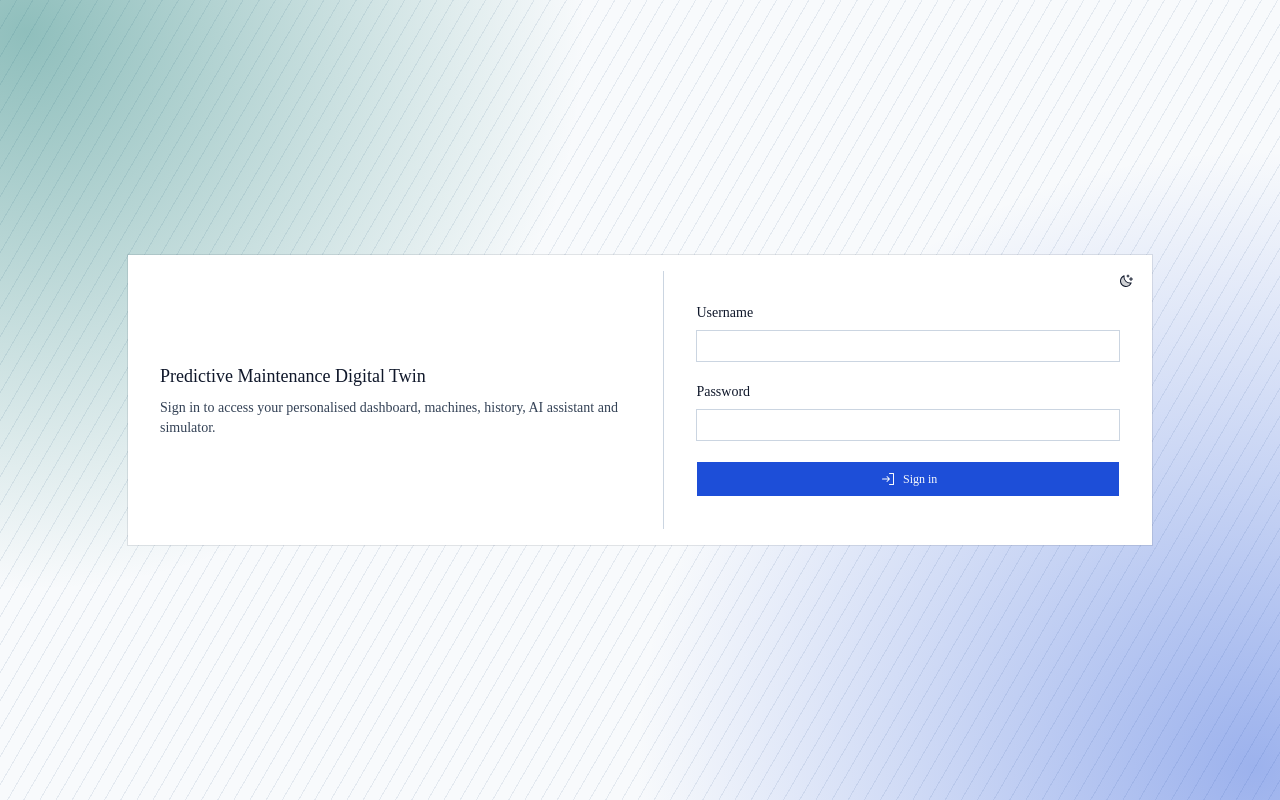
Test: auth forms › renders a readable sign-in error
In the field labelled "Username": (908, 346) [696,330,1120,362], type "wrong@test.com"
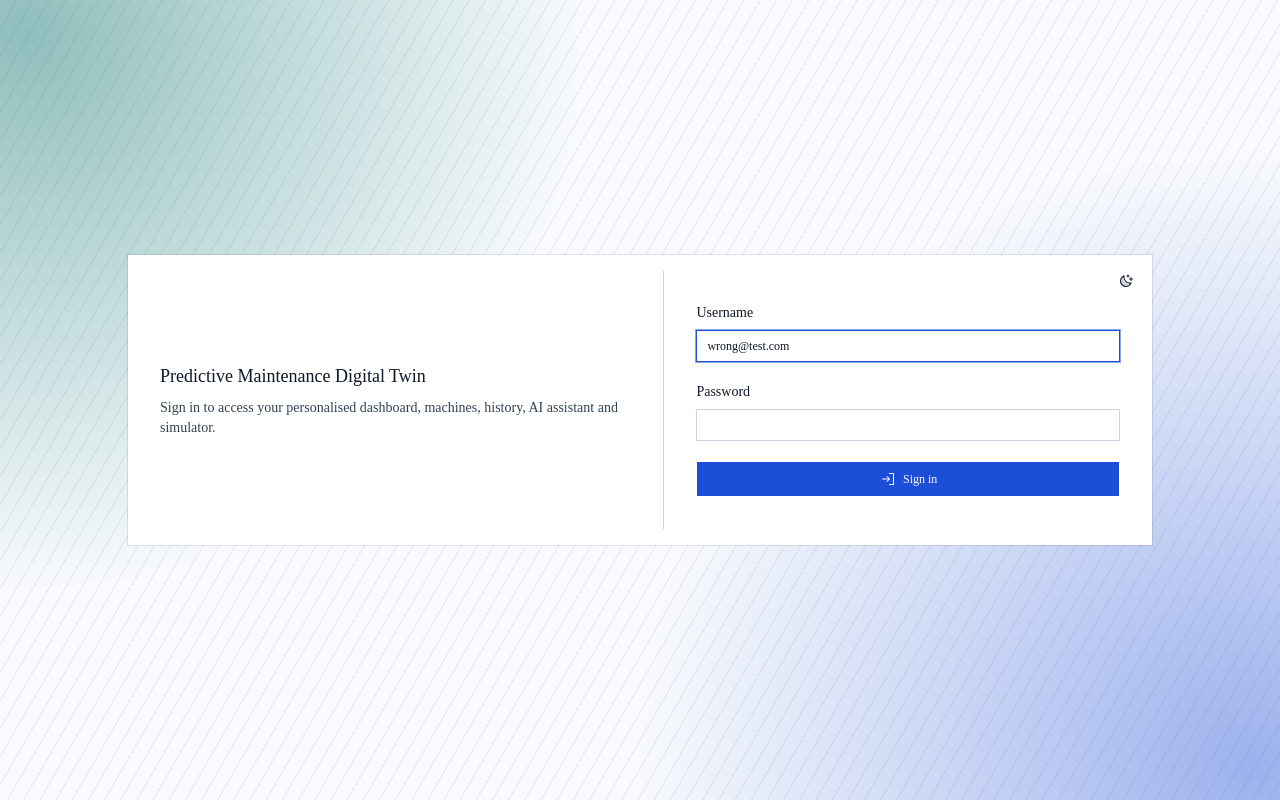
In the password field labelled "Password": (908, 425) [696,409,1120,441], type "bad-password"
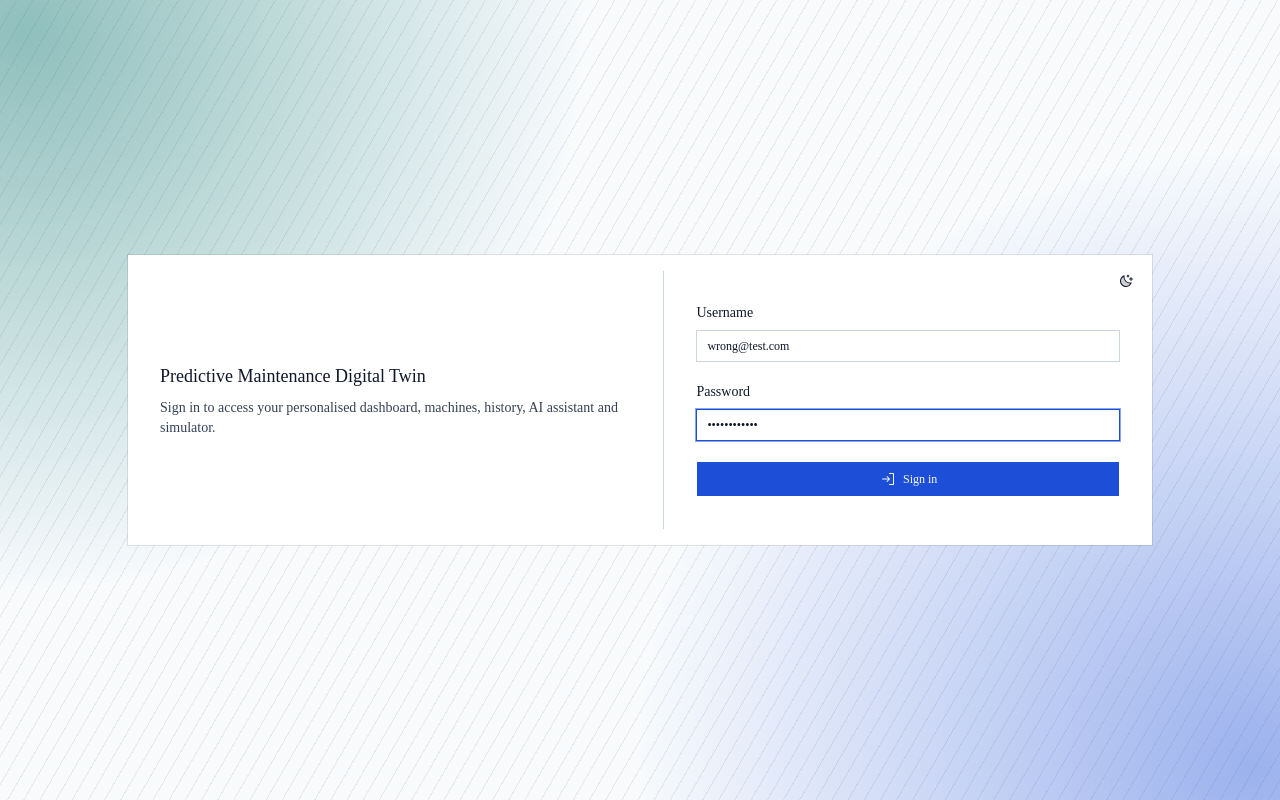
Click the button "Sign in": (908, 479) [696,461,1120,497]
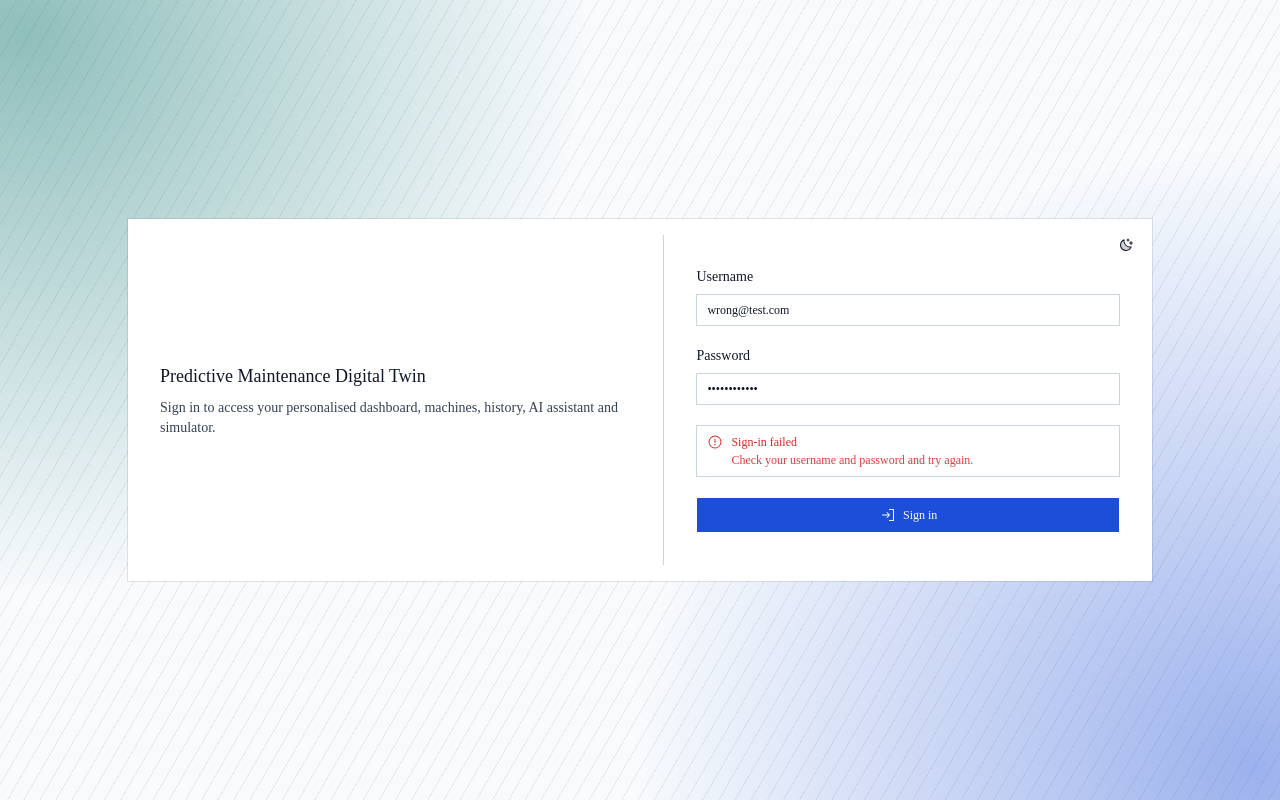
Expected: the text "Sign-in failed" is shown, [731,435,797,449]
Expected: the text "Check your username and password and try again." is shown, [731,453,973,467]
